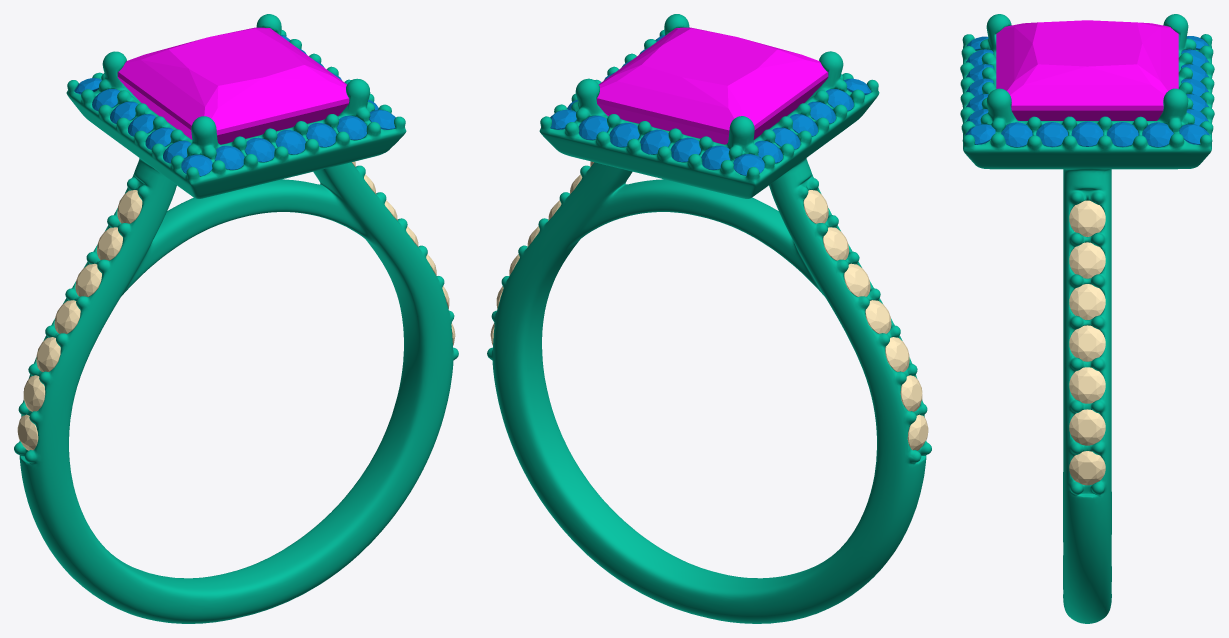
Rendered from BE1BDB30R30_PR_200ct_RENDER.glb.
3 renders of one model, left to right at view 1: azimuth 30°, elevation 25°; view 2: azimuth 150°, elevation 25°; view 3: azimuth 270°, elevation 25°, orthographic.
Visible parts, largest first — view 1: Metal 01, CS_Diamond_Princess, Diamond_Round_Gem_SH.003, Diamond_Round_Gem_SH.004, Diamond_Round_Gem_SH.002, Diamond_Round_Gem_SH.005, Diamond_Round_Gem_SH.006, Diamond_Round_Gem_SH.001; view 2: Metal 01, CS_Diamond_Princess, Diamond_Round_Gem_SH.003, Diamond_Round_Gem_SH.004, Diamond_Round_Gem_SH.002, Diamond_Round_Gem_SH.005, Diamond_Round_Gem_SH.006, Diamond_Round_Gem_SH.001; view 3: Metal 01, CS_Diamond_Princess, Diamond_Round_Gem_SH.011, Diamond_Round_Gem_SH.012, Diamond_Round_Gem_SH.010, Diamond_Round_Gem_SH.007, Diamond_Round_Gem_SH.008, Diamond_Round_Gem_SH.009, Diamond_Round_Gem_SH.013, Diamond_Round_Gem_HD.007, Diamond_Round_Gem_HD.005, Diamond_Round_Gem_HD.006 (+4 smaller).
Boxes of the visible parts, bbox=[...] form: Metal 01: bbox=[14, 14, 458, 623]; CS_Diamond_Princess: bbox=[117, 27, 349, 144]; Diamond_Round_Gem_SH.003: bbox=[54, 300, 80, 333]; Diamond_Round_Gem_SH.004: bbox=[75, 263, 101, 296]; Diamond_Round_Gem_SH.002: bbox=[36, 337, 60, 371]; Diamond_Round_Gem_SH.005: bbox=[96, 227, 122, 260]; Diamond_Round_Gem_SH.006: bbox=[117, 190, 142, 223]; Diamond_Round_Gem_SH.001: bbox=[23, 375, 45, 411]; Metal 01: bbox=[487, 14, 931, 623]; CS_Diamond_Princess: bbox=[596, 27, 828, 144]; Diamond_Round_Gem_SH.003: bbox=[865, 300, 891, 333]; Diamond_Round_Gem_SH.004: bbox=[844, 263, 870, 296]; Diamond_Round_Gem_SH.002: bbox=[885, 337, 909, 371]; Diamond_Round_Gem_SH.005: bbox=[823, 227, 849, 260]; Diamond_Round_Gem_SH.006: bbox=[803, 190, 828, 223]; Diamond_Round_Gem_SH.001: bbox=[900, 375, 922, 411]; Metal 01: bbox=[960, 14, 1214, 623]; CS_Diamond_Princess: bbox=[996, 20, 1178, 120]; Diamond_Round_Gem_SH.011: bbox=[1069, 367, 1105, 403]; Diamond_Round_Gem_SH.012: bbox=[1069, 409, 1105, 445]; Diamond_Round_Gem_SH.010: bbox=[1069, 325, 1105, 361]; Diamond_Round_Gem_SH.007: bbox=[1069, 200, 1105, 236]; Diamond_Round_Gem_SH.008: bbox=[1069, 242, 1105, 278]; Diamond_Round_Gem_SH.009: bbox=[1069, 284, 1105, 319]; Diamond_Round_Gem_SH.013: bbox=[1069, 451, 1105, 485]; Diamond_Round_Gem_HD.007: bbox=[1071, 121, 1103, 146]; Diamond_Round_Gem_HD.005: bbox=[1001, 122, 1032, 147]; Diamond_Round_Gem_HD.006: bbox=[1036, 122, 1067, 147].
Size of the model in its own units: 20.42 by 25.17 by 10.44.
